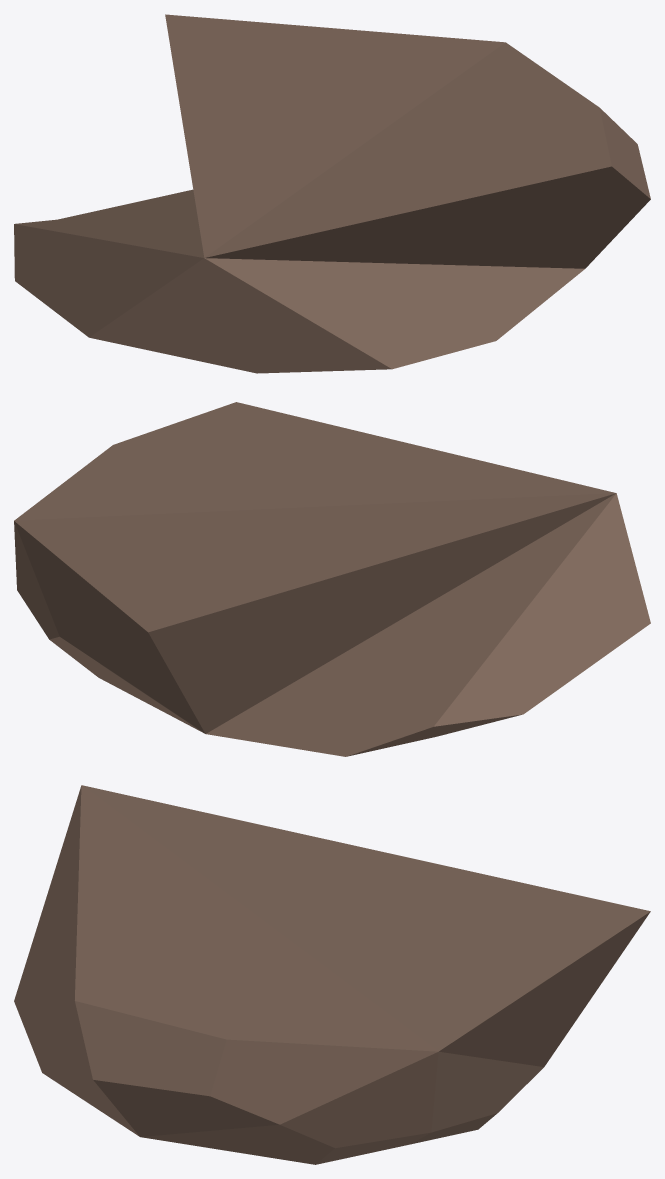
File: piedra_6.fbx
3 views of the same model, one above another, from view 1: azimuth 30°, elevation 25°; view 2: azimuth 150°, elevation 25°; view 3: azimuth 270°, elevation 25° (orthographic). The views are drawn at different scales.
Parts seen in each view (by area): view 1: piedra_7; view 2: piedra_7; view 3: piedra_7.
Boxes of the visible parts, x1,y1,x2,y2 form: piedra_7: (14, 14, 650, 373); piedra_7: (14, 402, 650, 756); piedra_7: (14, 785, 650, 1164).
Size of the model in its own units: 20.84 by 5.51 by 18.92.
